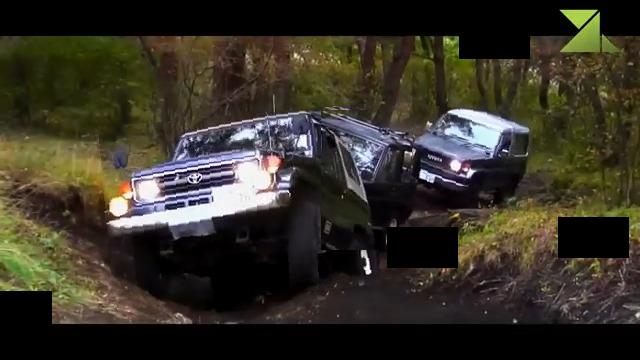MIL_HMMWV: (102, 110, 377, 303), (322, 110, 420, 250), (410, 106, 532, 209)
